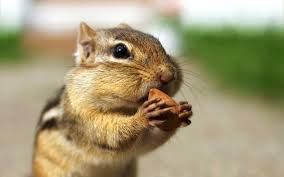Ardilla: (50, 18, 198, 166)
